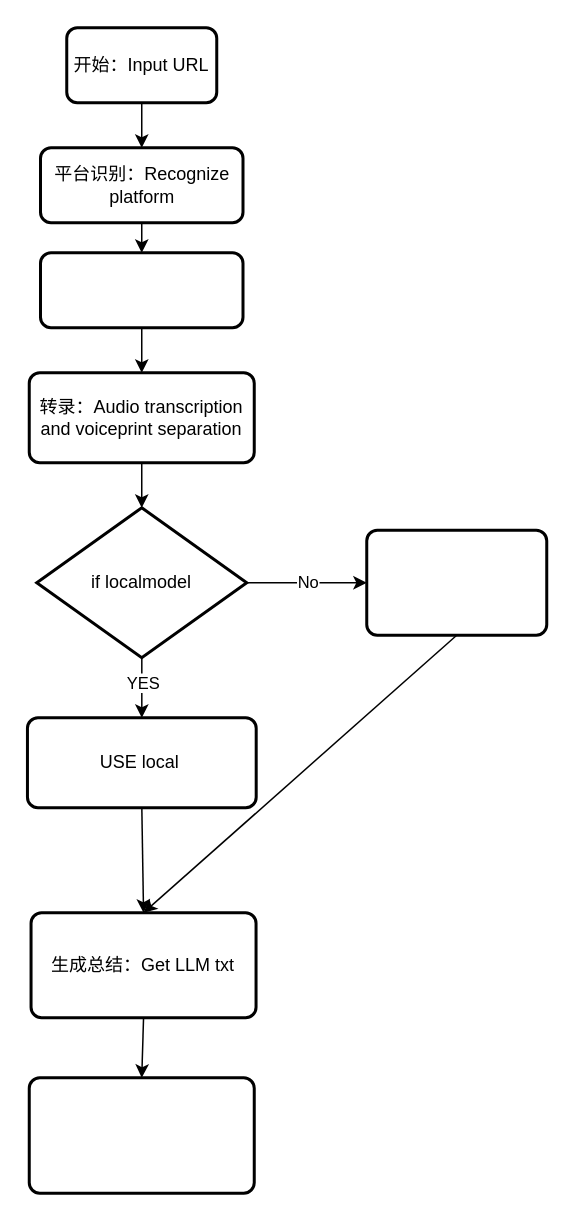
Some shapes in this 575 by 1220 pixel diagram are drawn without their labels. The shapes that lost their labels are listed below. From the top down, each one's centre as x and y in pixels, then its label:
the point at 141,289: 抓取：Audio download
the point at 456,582: USE OpenAI/DeepSeek API
the point at 141,1135: 持久化：Save data to PostgreSQL and file system
